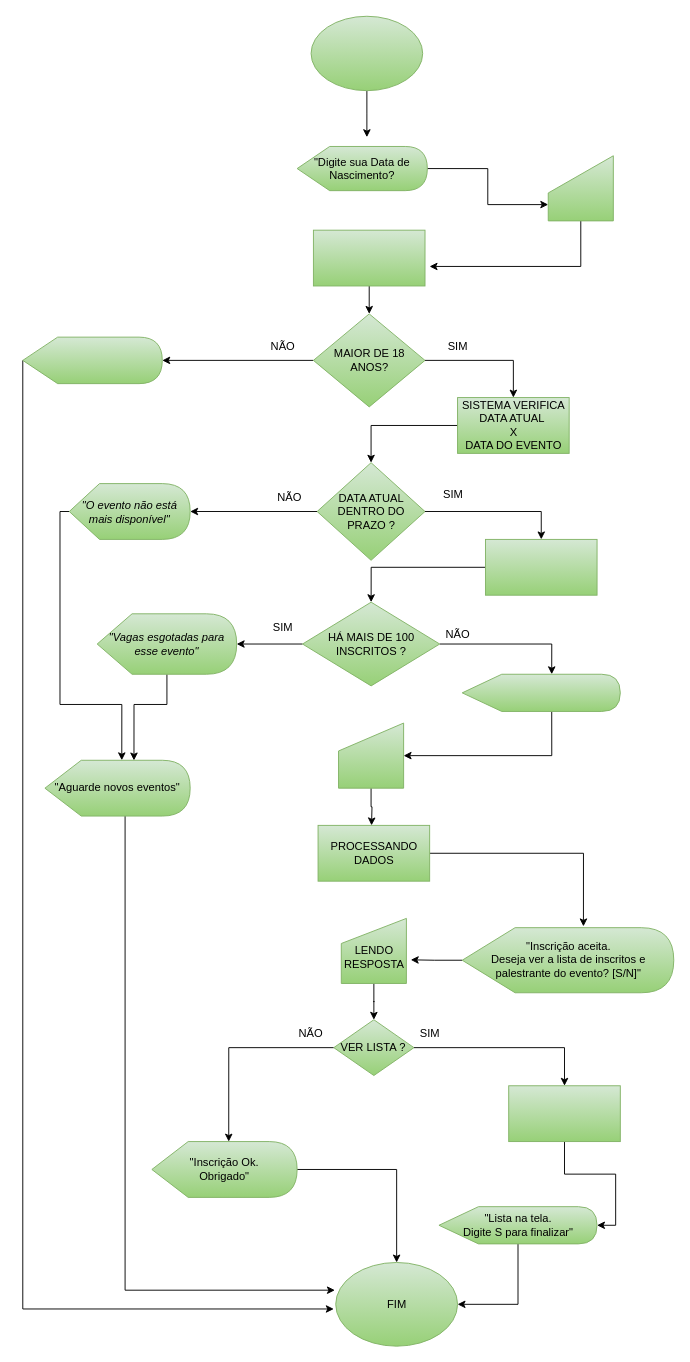
The diagram is 690 pixels wide and 1362 high, and some of its shapes have lost their labels. The centre of each missing label's shape, as x and y in pixels:
"Digite seus dados": (540,692)
"Evento somente para maiores de idade": (92,360)
INÍCIO: (usuário acessa programa): (366,53)
LENDO DADOS: (371,755)
LENDO DN: (580,188)
PROCESSANDO LISTA: (564,1113)
SISTEMA VERIFICA VAGAS (Limite 100): (541,566)
VERIFICAÇÃO DA IDADE: (368,257)
